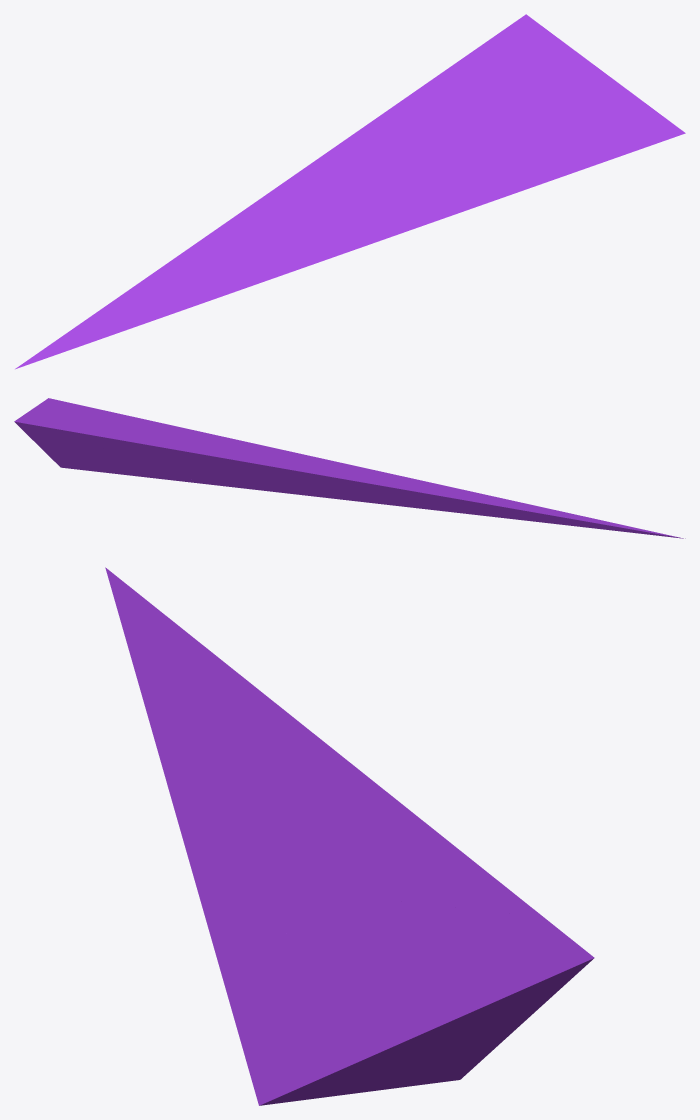
The model's file is Window_163_2_chunks.fbx.
The picture shows the model from 3 angles, top to bottom: view 1: azimuth 30°, elevation 25°; view 2: azimuth 150°, elevation 25°; view 3: azimuth 270°, elevation 25°; orthographic projection. The views are drawn at different scales.
Parts seen in each view (by area): view 1: Window_163_2_2, Window_163_2_3, Window_163_2_0, Window_163_2_1; view 2: Window_163_2_2, Window_163_2_3, Window_163_2_0, Window_163_2_1; view 3: Window_163_2_2, Window_163_2_3, Window_163_2_1, Window_163_2_0.
Boxes of the visible parts, <box> form: Window_163_2_2: <box>15,150,515,369</box>; Window_163_2_3: <box>434,14,663,192</box>; Window_163_2_0: <box>315,52,472,160</box>; Window_163_2_1: <box>526,117,685,189</box>; Window_163_2_2: <box>209,433,685,538</box>; Window_163_2_3: <box>14,401,210,453</box>; Window_163_2_0: <box>85,434,290,485</box>; Window_163_2_1: <box>34,398,204,483</box>; Window_163_2_2: <box>105,567,392,969</box>; Window_163_2_3: <box>220,896,594,1085</box>; Window_163_2_1: <box>222,977,536,1105</box>; Window_163_2_0: <box>354,796,542,916</box>.
Bounding box in the file's own units: 662 × 76.93 × 234.
